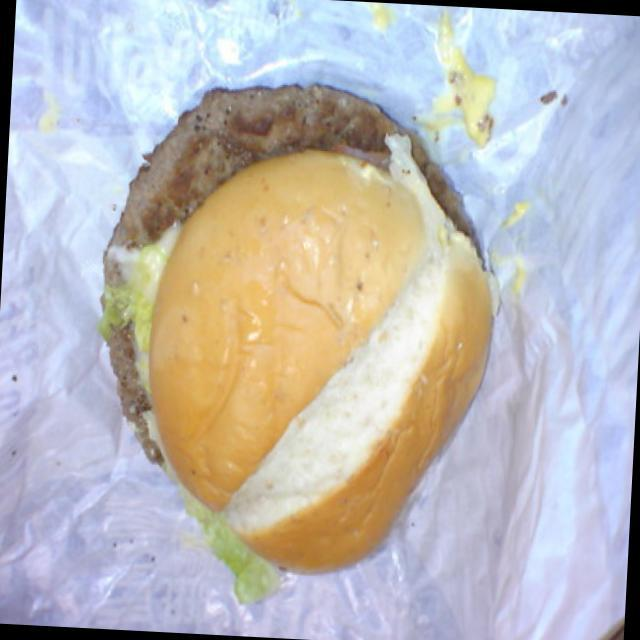Hamburger: (101, 93, 491, 562)
